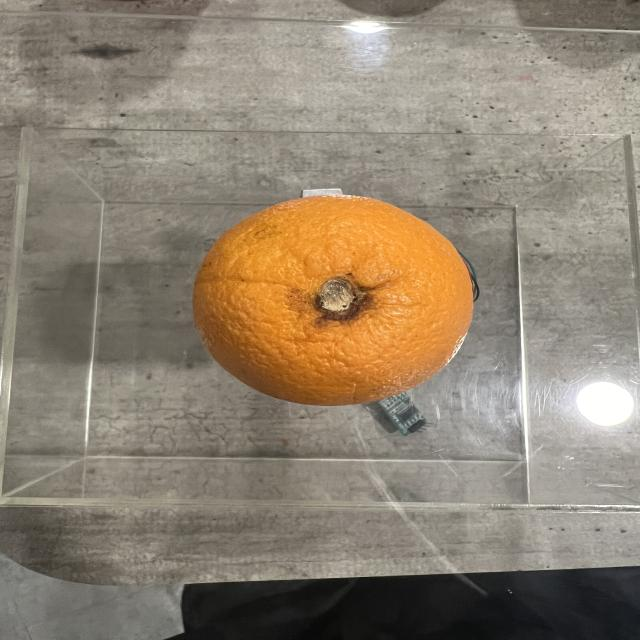orange: (196, 193, 474, 406)
